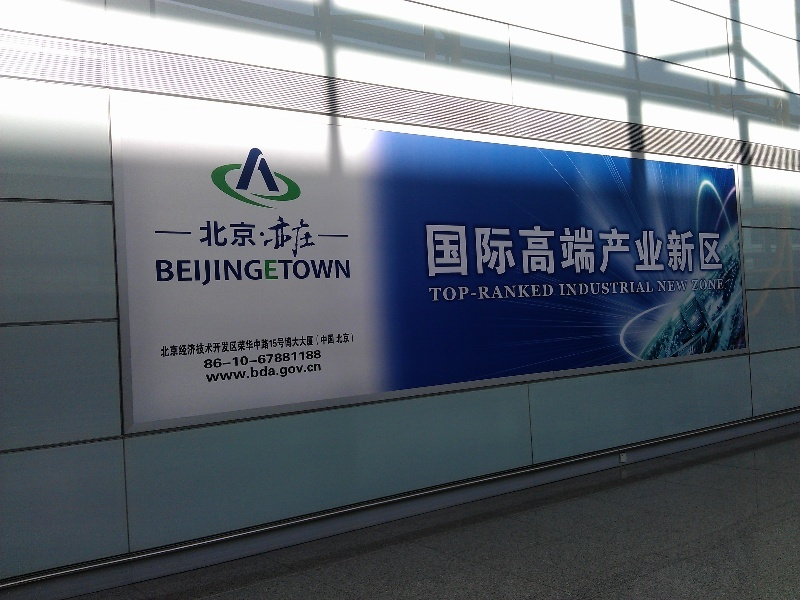text: (433, 225, 448, 278), (449, 225, 464, 278), (465, 225, 480, 278), (481, 225, 496, 278), (497, 225, 512, 278), (513, 225, 528, 278), (529, 225, 544, 278), (545, 225, 560, 278), (561, 225, 576, 278), (577, 225, 592, 278), (593, 225, 608, 278), (609, 225, 624, 278), (625, 225, 640, 278), (641, 225, 656, 278), (657, 225, 672, 278), (673, 225, 688, 278), (689, 225, 704, 278), (705, 225, 720, 278), (209, 213, 224, 257), (225, 213, 240, 257), (241, 213, 256, 257), (257, 213, 272, 257), (273, 213, 288, 257), (289, 213, 304, 257), (305, 213, 319, 257), (161, 259, 176, 290), (177, 259, 192, 290), (193, 259, 208, 290), (209, 259, 224, 290), (225, 259, 240, 290), (241, 259, 256, 290), (257, 259, 272, 290), (273, 259, 288, 290), (289, 259, 304, 290), (305, 259, 320, 290), (321, 259, 336, 290), (337, 259, 352, 290), (199, 213, 208, 257), (209, 360, 224, 385), (225, 360, 240, 385), (241, 360, 256, 385), (257, 360, 272, 385), (273, 360, 288, 385), (289, 360, 304, 385), (305, 360, 320, 385), (161, 335, 176, 358), (177, 335, 192, 358), (193, 335, 208, 358), (209, 335, 224, 358), (225, 335, 240, 358), (241, 335, 256, 358), (257, 335, 272, 358), (273, 335, 288, 358), (289, 335, 304, 358), (209, 349, 224, 371), (225, 349, 240, 371), (241, 349, 256, 371), (257, 349, 272, 371), (273, 349, 288, 371), (289, 349, 304, 371), (305, 349, 320, 371), (433, 284, 448, 303), (449, 284, 464, 303), (465, 284, 480, 303), (481, 284, 496, 303), (497, 284, 512, 303), (513, 284, 528, 303), (529, 284, 544, 303), (561, 280, 576, 298), (577, 280, 592, 298), (593, 280, 608, 298), (609, 280, 624, 298), (625, 280, 640, 298), (427, 225, 432, 278), (641, 280, 655, 298), (721, 225, 725, 278), (305, 335, 314, 358), (321, 334, 336, 347), (673, 280, 689, 292), (545, 284, 555, 303), (657, 280, 672, 292), (705, 279, 720, 291), (337, 333, 352, 345), (155, 259, 160, 290), (692, 279, 704, 291), (202, 349, 208, 371), (427, 284, 432, 303), (315, 334, 320, 347), (206, 360, 208, 385), (321, 360, 323, 385), (721, 279, 725, 291), (558, 280, 560, 298), (353, 333, 355, 345), (159, 335, 160, 358), (321, 349, 322, 371)
